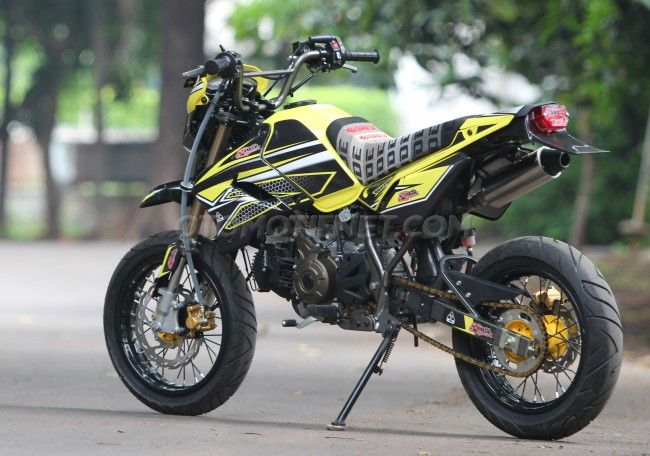motorcycle: (102, 32, 624, 440)
